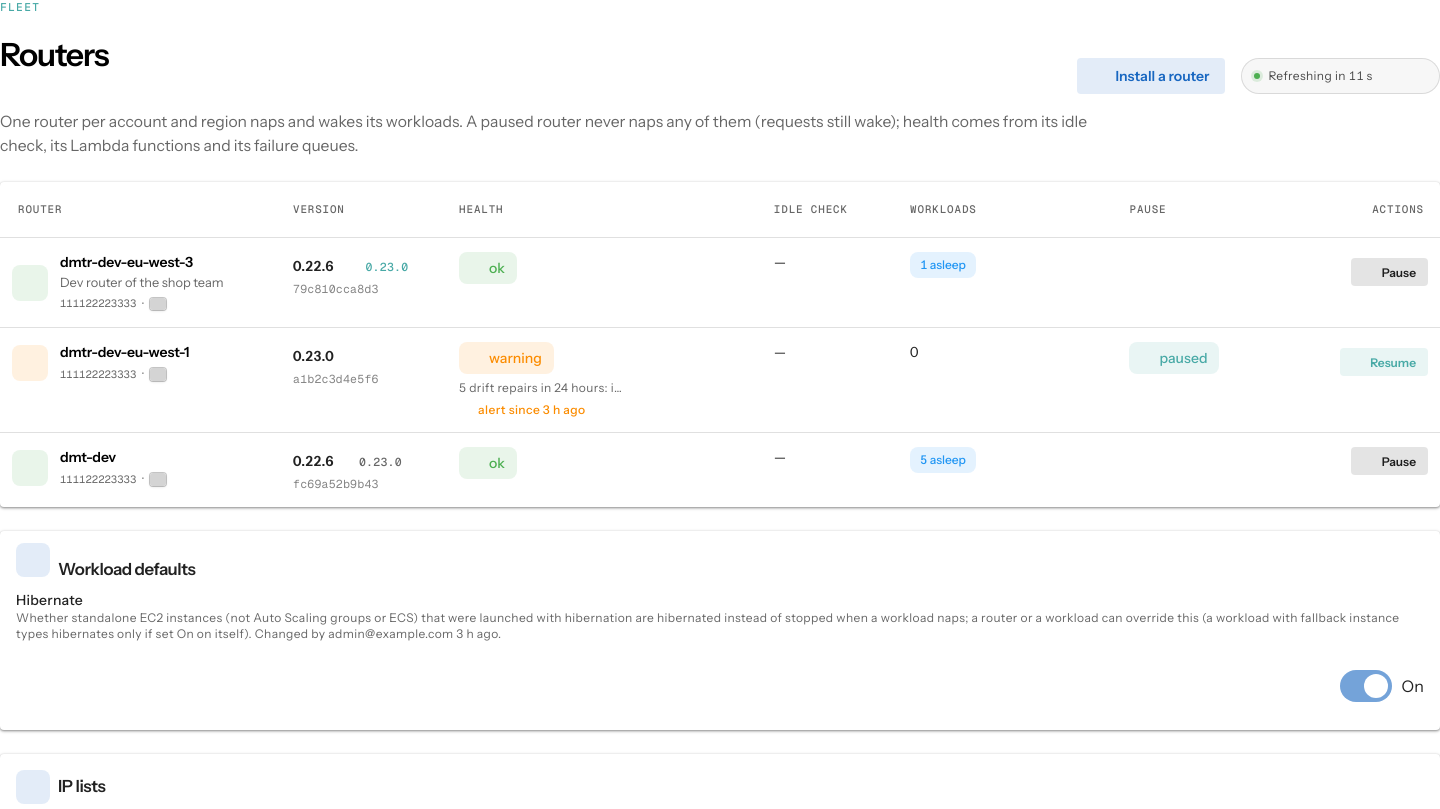
Scenario: Routers view › the workload defaults card (hibernation) › keeps the value when the confirmation is cancelled
Click the checkbox labelled "On" at (1413, 686), box x1=1402 y1=676 x2=1424 y2=696
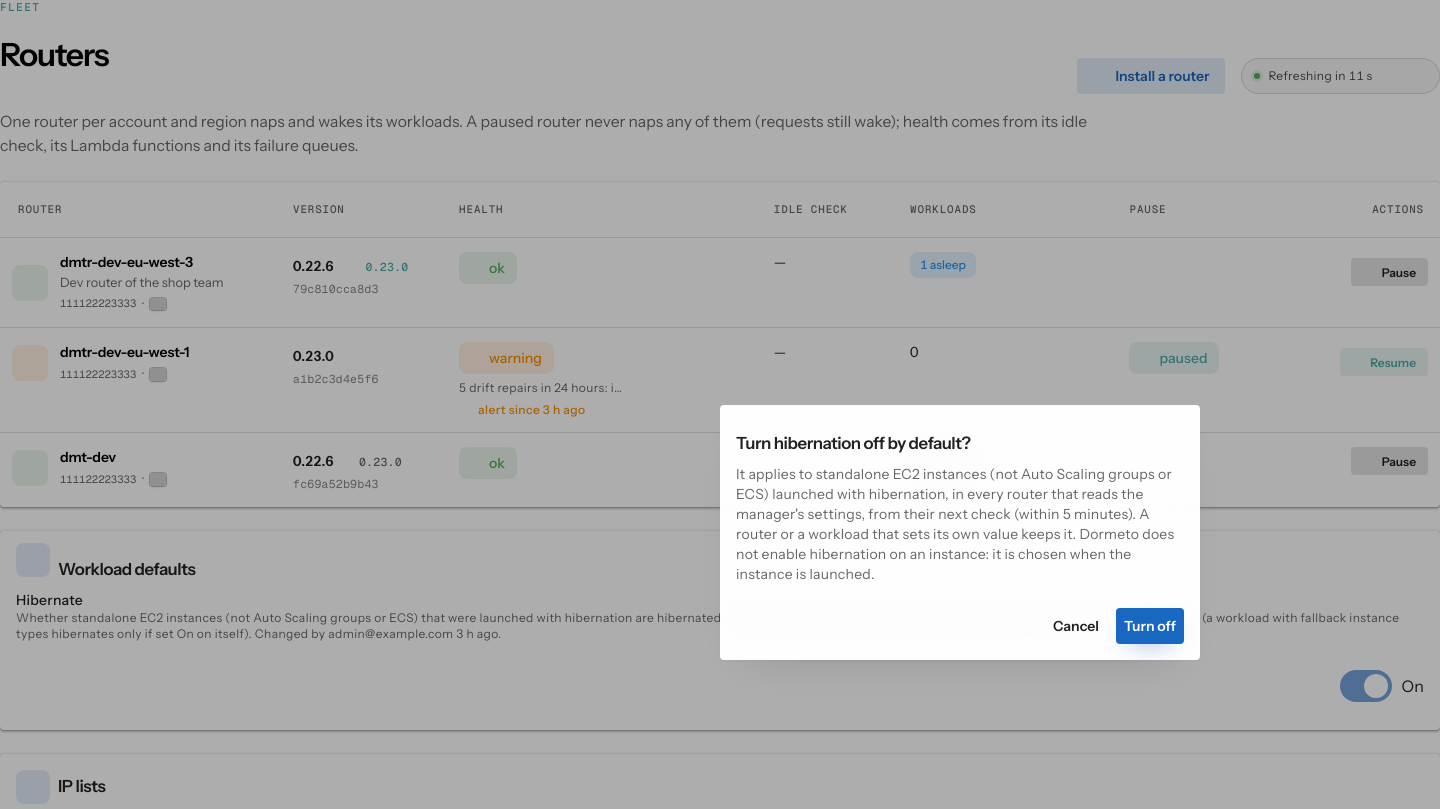
Click the button "Cancel" at (1076, 626), box x1=1044 y1=608 x2=1108 y2=644
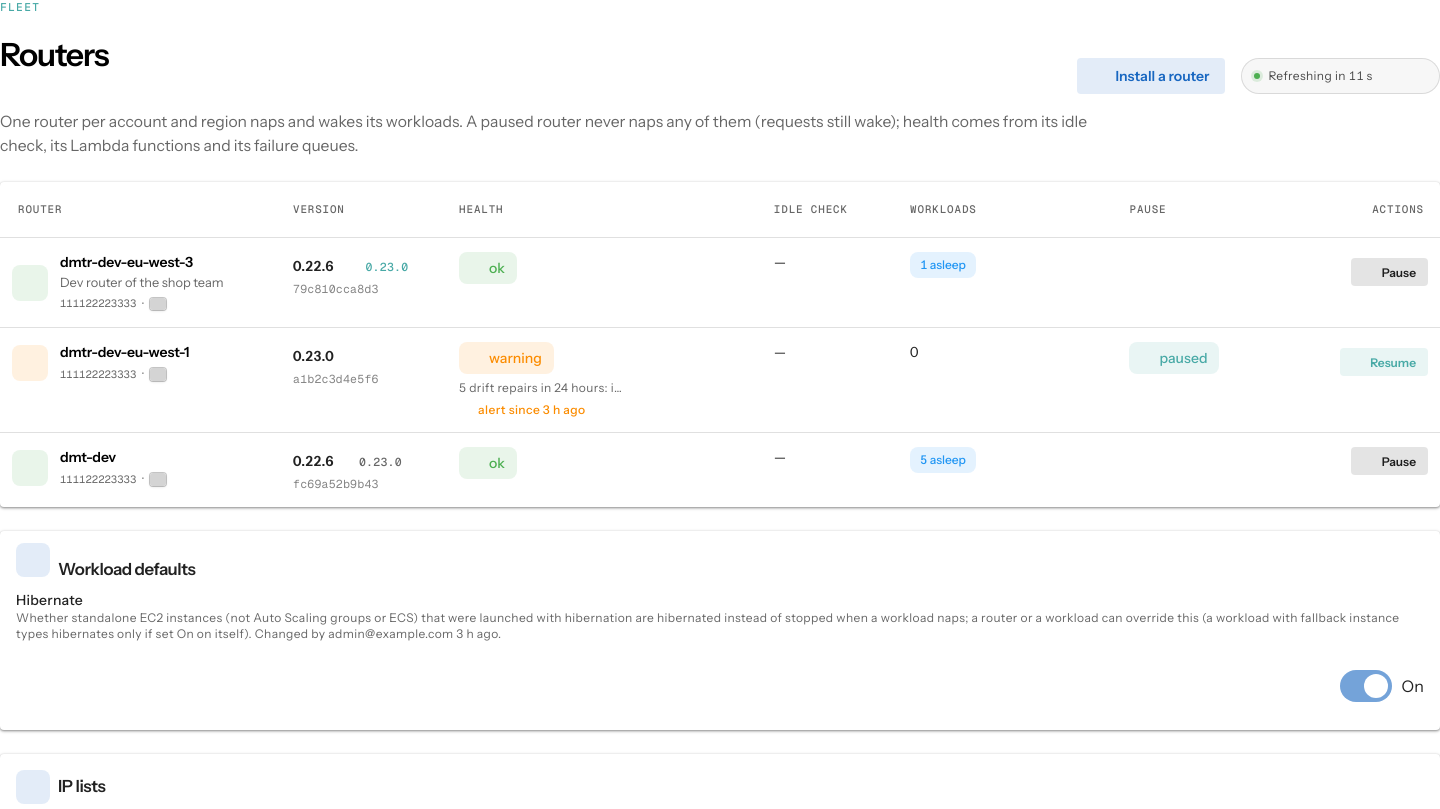
Expected: the checkbox labelled "On" is checked, x1=1402 y1=676 x2=1424 y2=696
